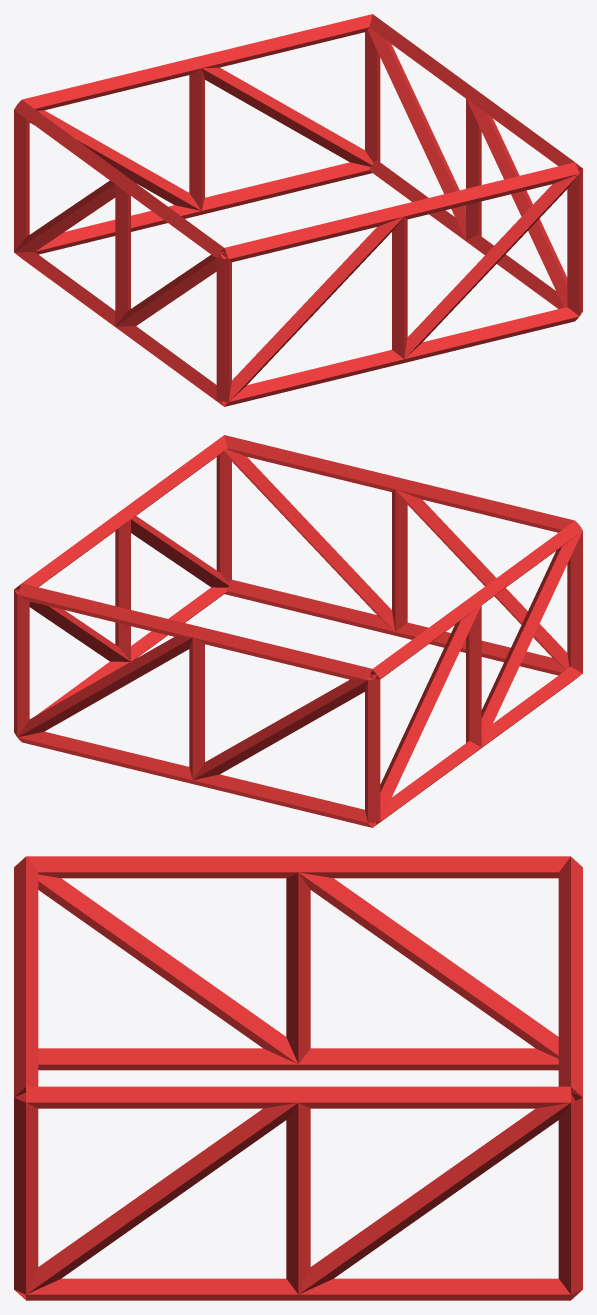
Rendered from andamioDeptoA.DAE.
3 views of the same model, one above another, from view 1: azimuth 30°, elevation 25°; view 2: azimuth 150°, elevation 25°; view 3: azimuth 270°, elevation 25° (orthographic). The views are drawn at different scales.
Parts seen in each view (by area): view 1: andamioDeptoA; view 2: andamioDeptoA; view 3: andamioDeptoA.
Part boxes in pixels (box(x1,y1,x2,y2)): andamioDeptoA: box(14, 14, 582, 406); andamioDeptoA: box(14, 435, 582, 827); andamioDeptoA: box(14, 856, 582, 1300).
Bounding box in the file's own units: 9.4 × 3.9 × 9.4.
